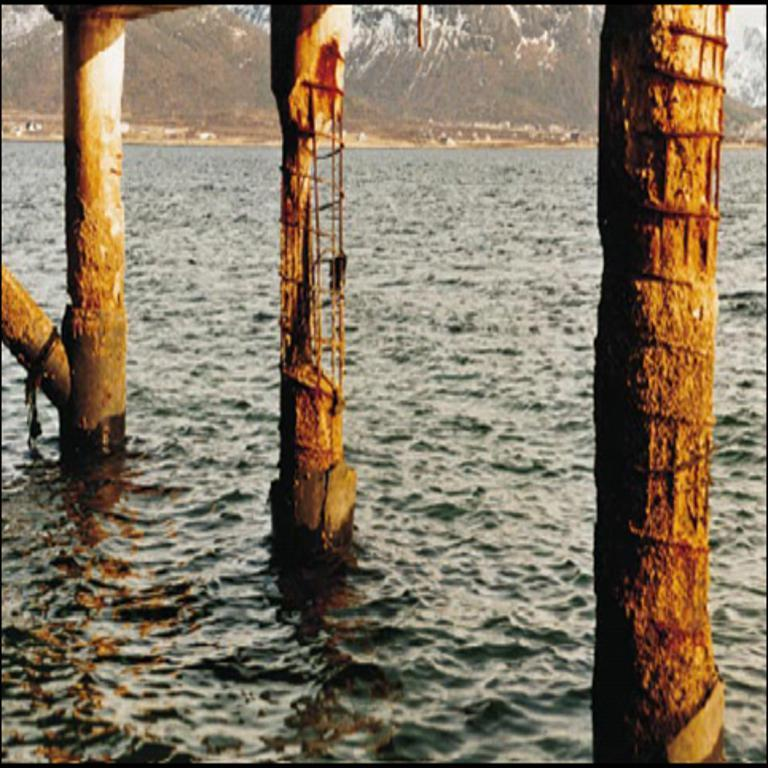spalling: (594, 6, 726, 760), (280, 39, 346, 473)
